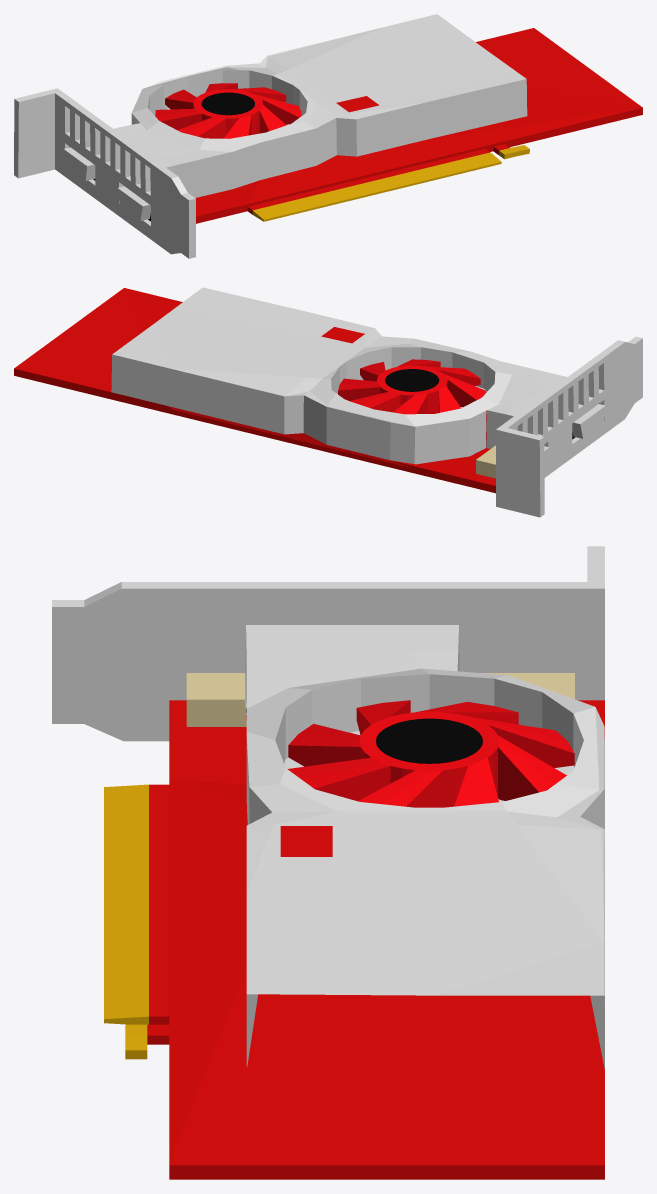
File: rageonX1800-XT.fbx
The picture shows the model from 3 angles, top to bottom: view 1: azimuth 30°, elevation 25°; view 2: azimuth 150°, elevation 25°; view 3: azimuth 270°, elevation 25°; orthographic projection. The views are drawn at different scales.
Parts seen in each view (by area): view 1: Plane.001, Cylinder; view 2: Plane.001, Cylinder; view 3: Plane.001, Cylinder.
Part boxes in pixels (x1,y1,x2,y2): Plane.001: (14, 14, 642, 258); Cylinder: (155, 83, 301, 138); Plane.001: (14, 287, 642, 517); Cylinder: (338, 359, 486, 414); Plane.001: (52, 546, 604, 1179); Cylinder: (287, 700, 574, 807).
Bounding box in the file's own units: 169 × 23.71 × 77.95.
